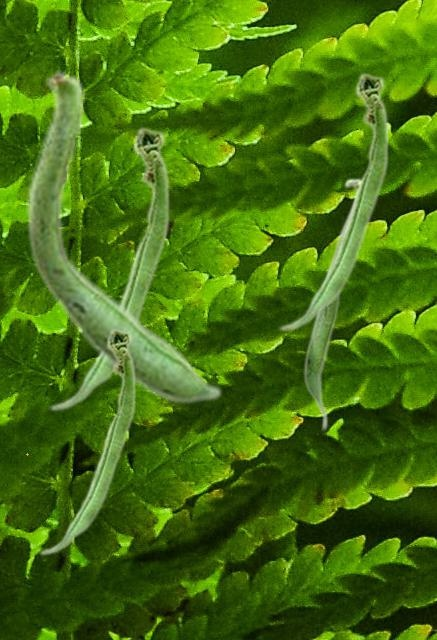french_bean: (26, 67, 222, 404), (48, 125, 169, 411), (278, 71, 388, 331), (38, 327, 135, 555), (303, 177, 359, 431)
